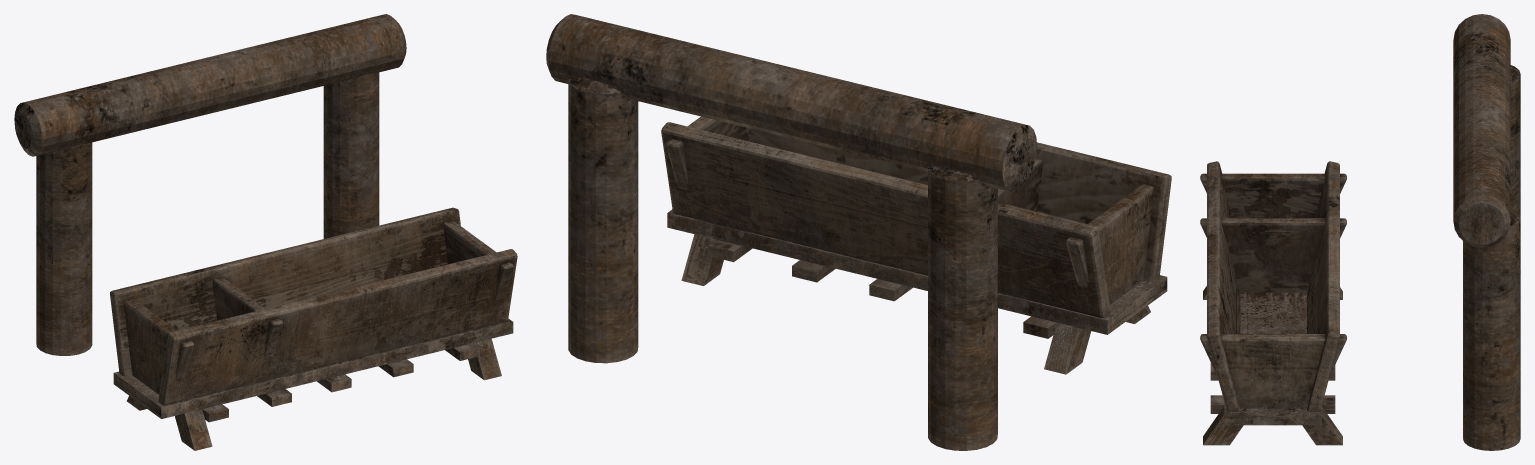
The model's file is TroughTX.fbx.
The picture shows the model from 3 angles, left to right: view 1: azimuth 30°, elevation 25°; view 2: azimuth 150°, elevation 25°; view 3: azimuth 270°, elevation 25°; orthographic projection. The views are drawn at different scales.
Parts seen in each view (by area): view 1: Trough, Wood_Trough; view 2: Wood_Trough, Trough; view 3: Trough, Wood_Trough.
Part boxes in pixels (x1,y1,x2,y2): Trough: (110, 207, 517, 450); Wood_Trough: (14, 14, 406, 355); Wood_Trough: (546, 14, 1036, 450); Trough: (661, 116, 1171, 374); Trough: (1200, 161, 1346, 445); Wood_Trough: (1453, 14, 1520, 450).
Size of the model in its own units: 900 by 590 by 654.
Materials: 1 (1 with a texture image).
